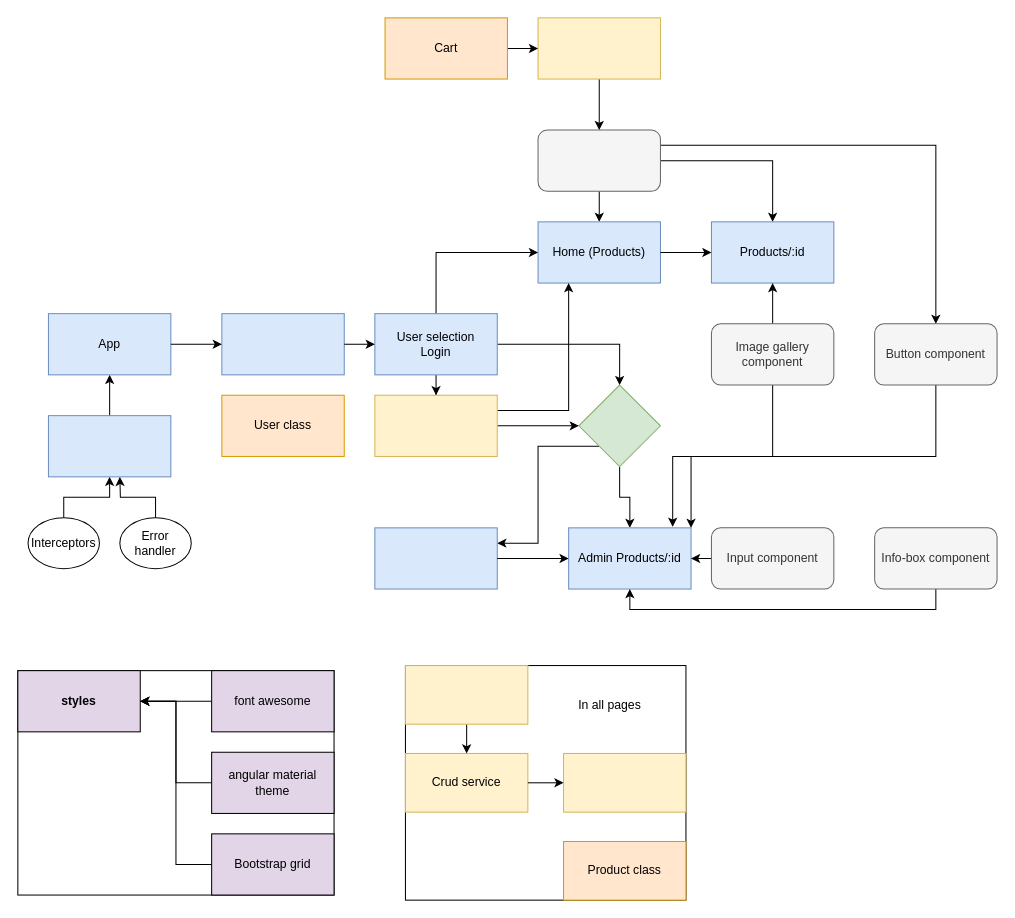
Image size: 1015x918. Some labels were removed from this diagram. The centre of each missing label's shape, as x and y in pixels:
Admin guard: point 619,425
Admin Products: point 435,558
API service: point 624,782
Cart component: point 598,160
Cart service: point 598,48
Core: point 109,446
Http service: point 466,694
layout: point 282,344
User service: point 435,425
